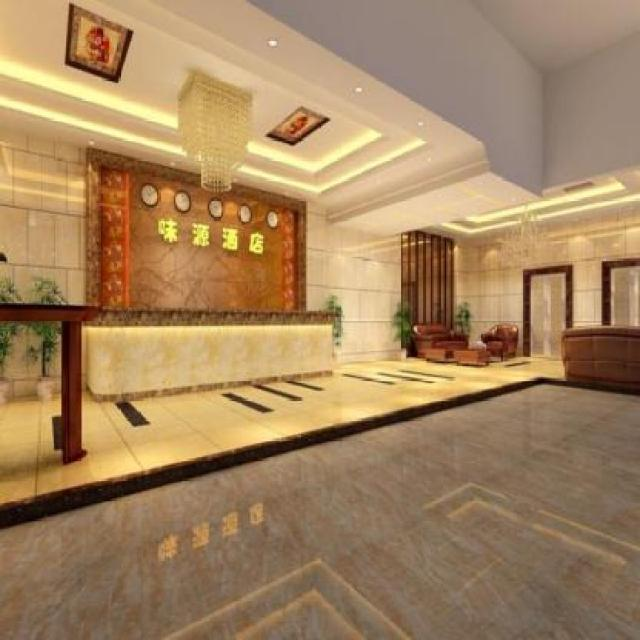frontdesk: (71, 302, 346, 408)
